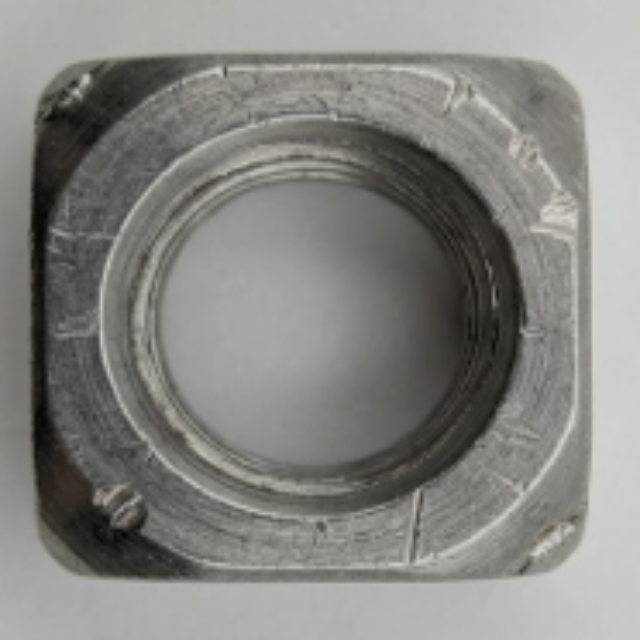defect: (27, 55, 111, 135), (84, 473, 153, 542), (534, 178, 582, 252), (50, 297, 120, 342), (47, 221, 128, 258), (435, 71, 486, 113), (507, 123, 548, 173), (493, 419, 547, 454), (408, 483, 423, 564), (519, 310, 551, 341), (208, 57, 241, 87)
